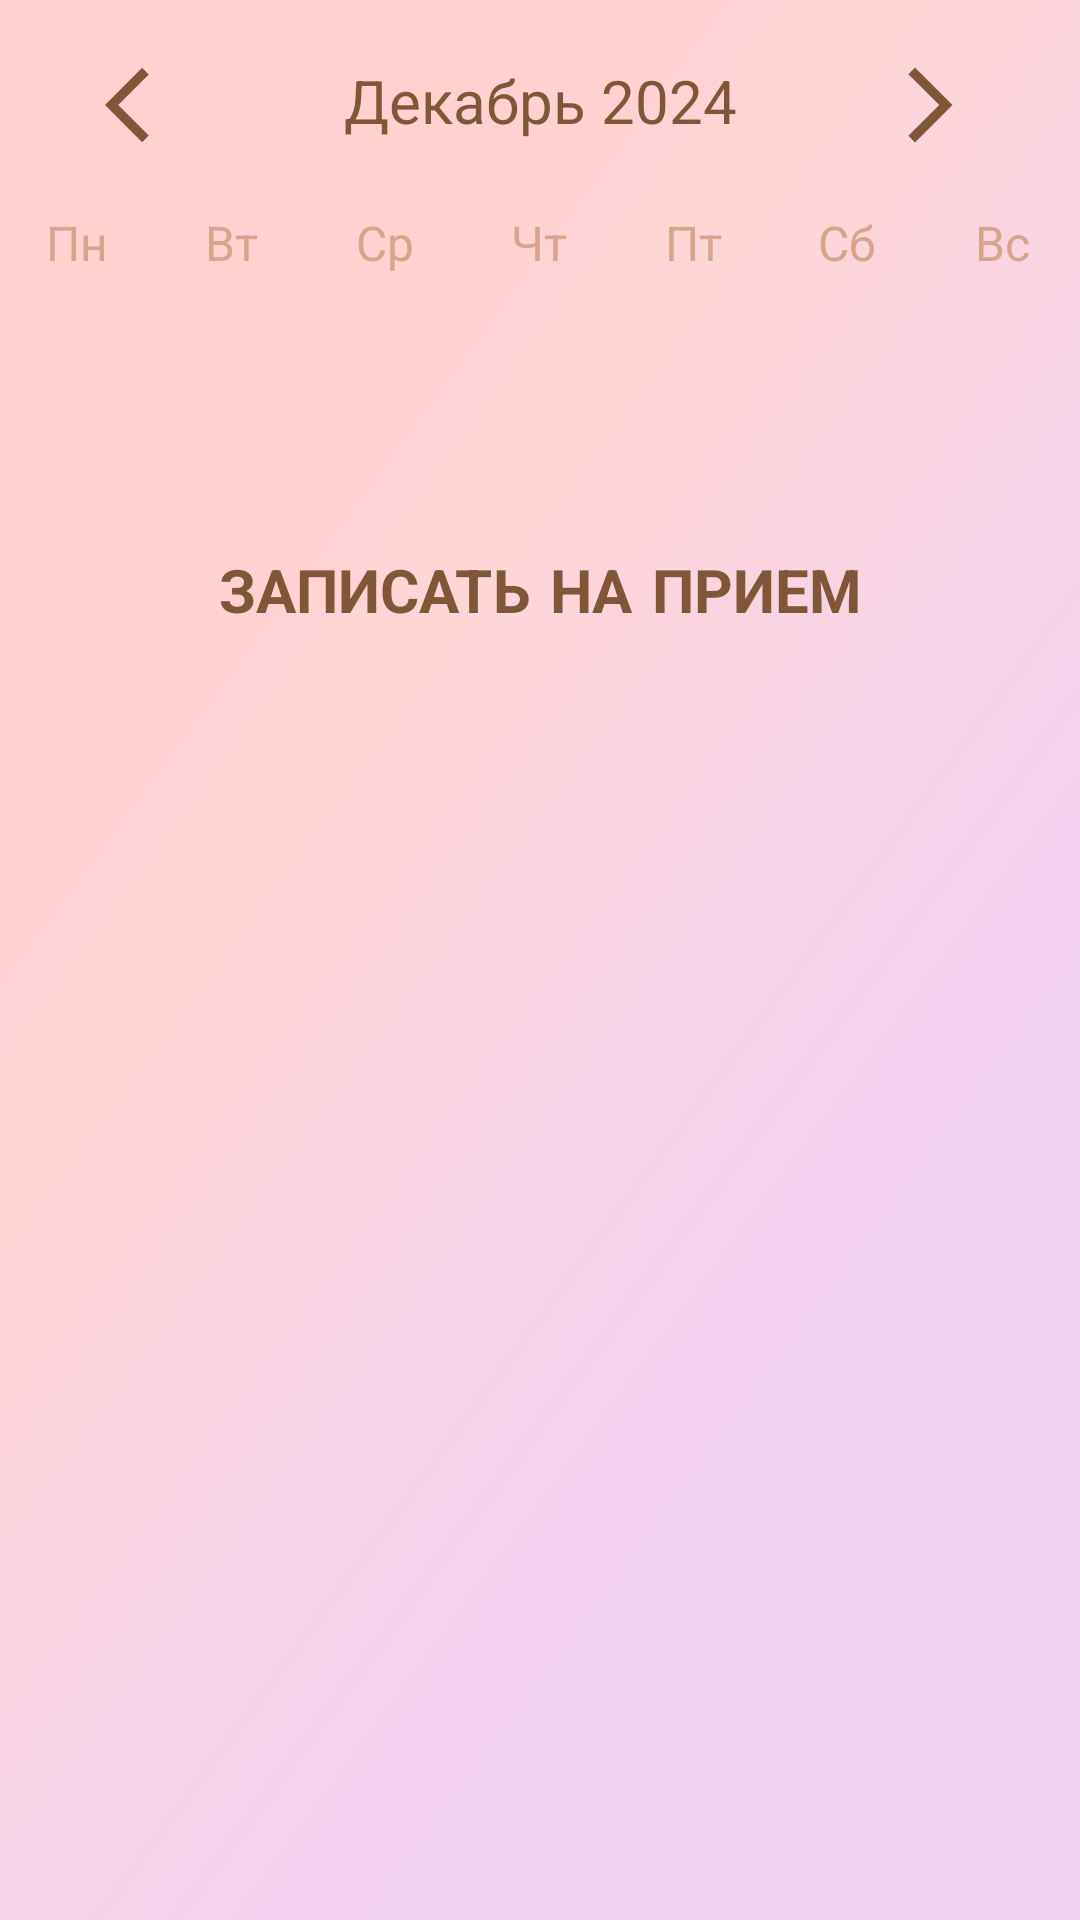

Locate icon controls on the screen. Image size 1080*1920, boxes as (x1, y1, x2, y2).
back: (105, 68, 149, 142)
forward: (908, 68, 952, 142)
